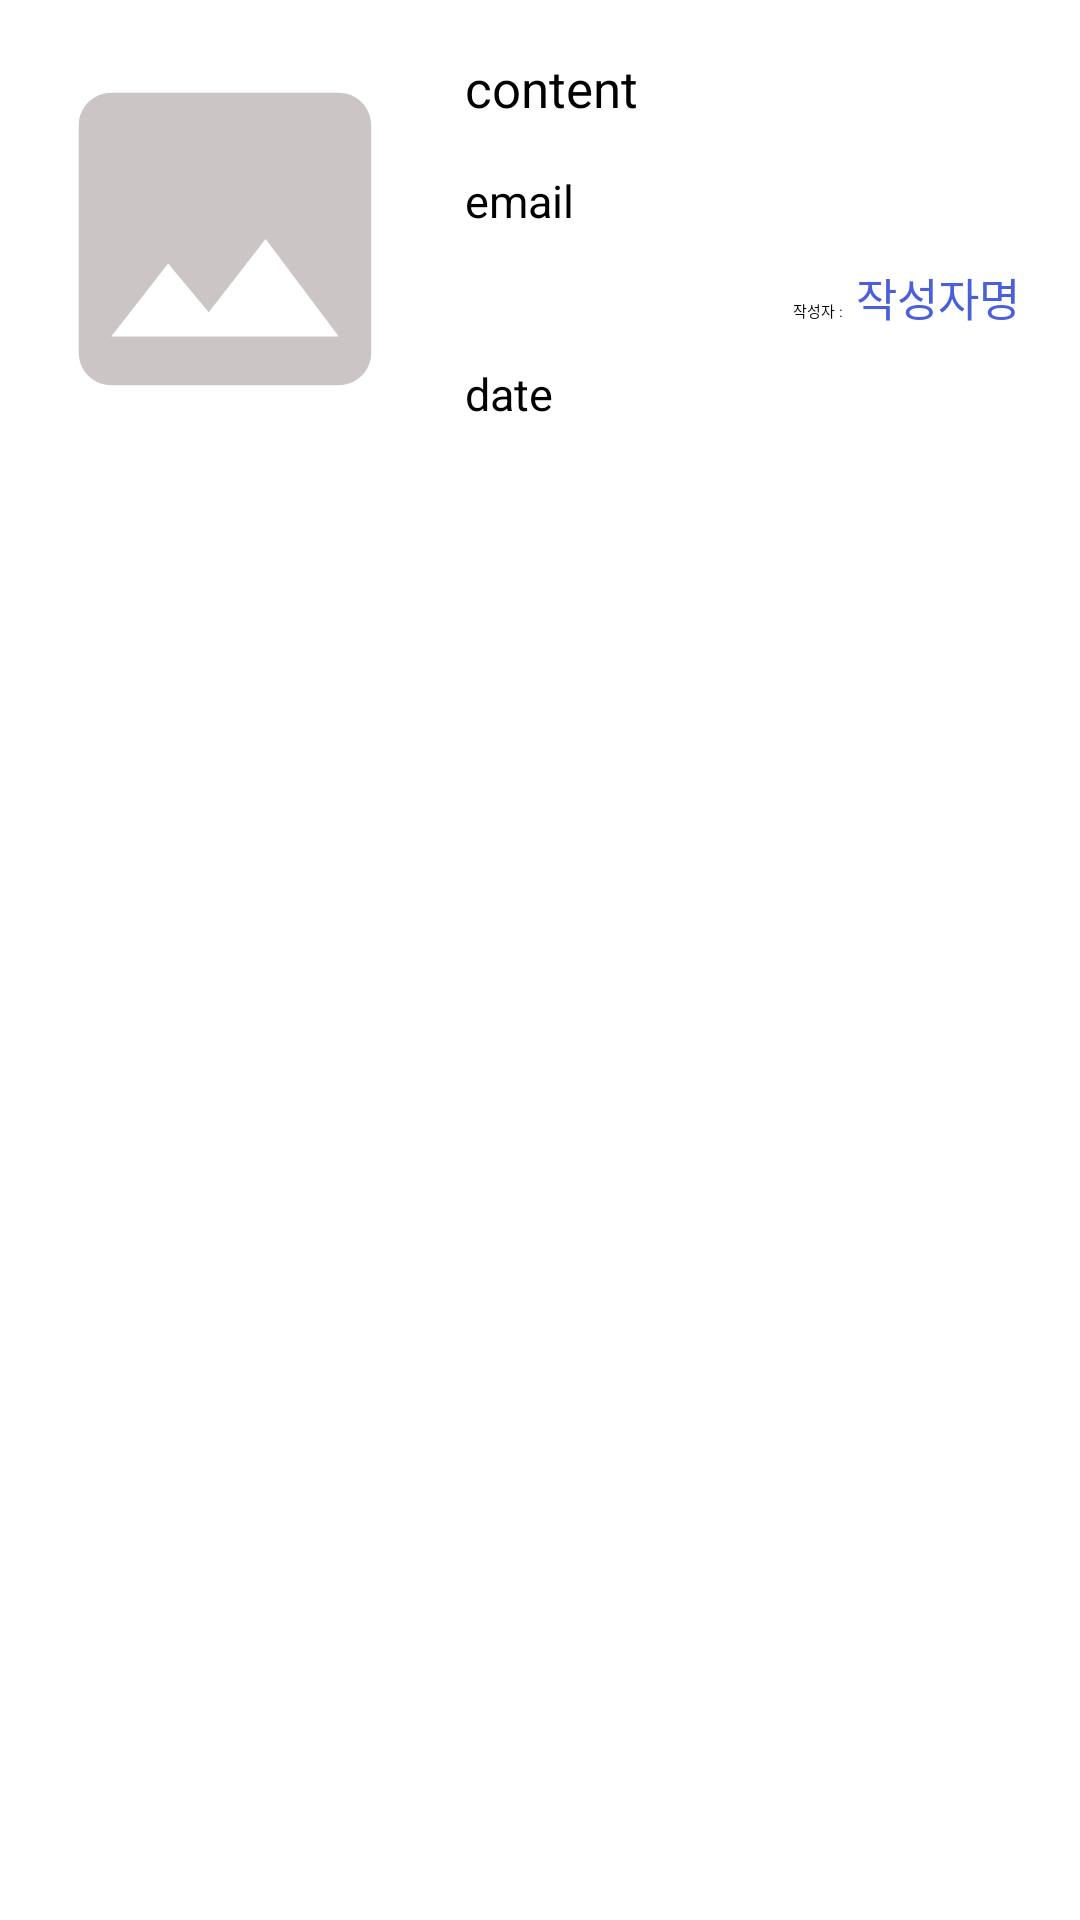

Where icons sit on this 1080*1920 app screen, as rect(x1, y1, x2, y2):
photo: rect(79, 93, 371, 385)
